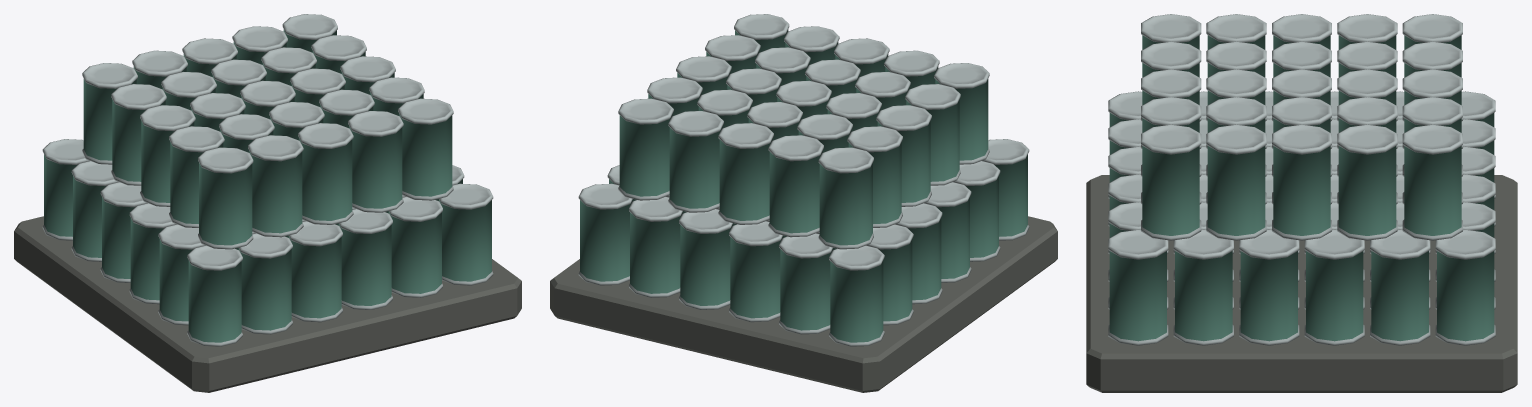
The model's file is gulong-window-stock.glb.
3 renders of one model, left to right at view 1: azimuth 30°, elevation 25°; view 2: azimuth 150°, elevation 25°; view 3: azimuth 270°, elevation 25°, orthographic. The views are drawn at different scales.
Parts seen in each view (by area): view 1: Two courses of unprinted window stock, BASE_ChamferedPlinth; view 2: Two courses of unprinted window stock, BASE_ChamferedPlinth; view 3: Two courses of unprinted window stock, BASE_ChamferedPlinth.
Boxes of the visible parts, x1,y1,x2,y2 form: Two courses of unprinted window stock: [42, 14, 493, 346]; BASE_ChamferedPlinth: [14, 216, 521, 392]; Two courses of unprinted window stock: [578, 14, 1029, 346]; BASE_ChamferedPlinth: [550, 216, 1057, 392]; Two courses of unprinted window stock: [1108, 14, 1495, 345]; BASE_ChamferedPlinth: [1086, 175, 1517, 392].
Bounding box in the file's own units: 1.2 × 0.68 × 1.2.
